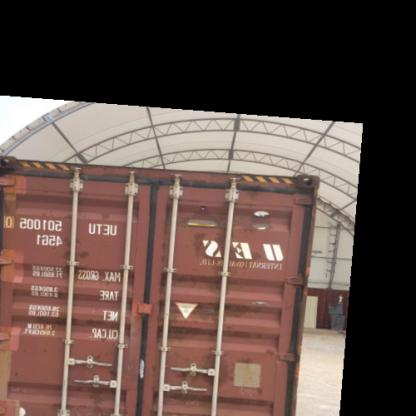Damage: (197, 232, 250, 270), (52, 232, 88, 274), (206, 356, 249, 388), (205, 300, 257, 320)
